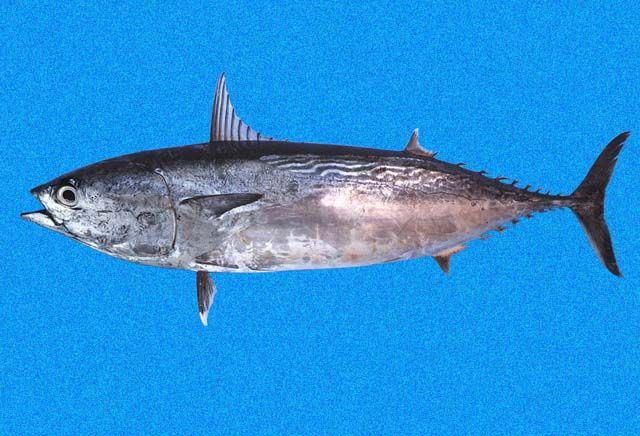fish: (21, 73, 629, 328)
